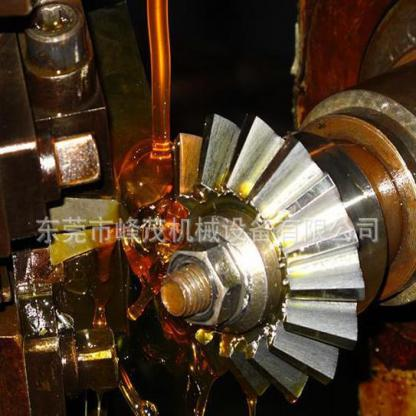FOD: (167, 109, 367, 408)
